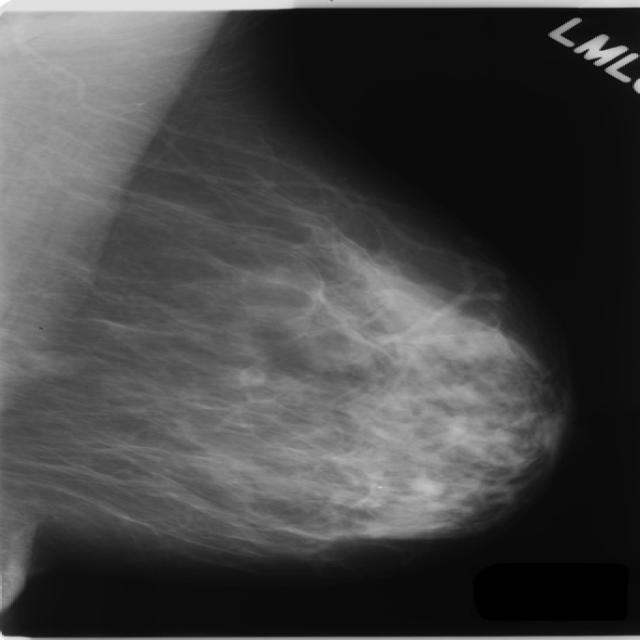tumour: (0, 348, 75, 378)
